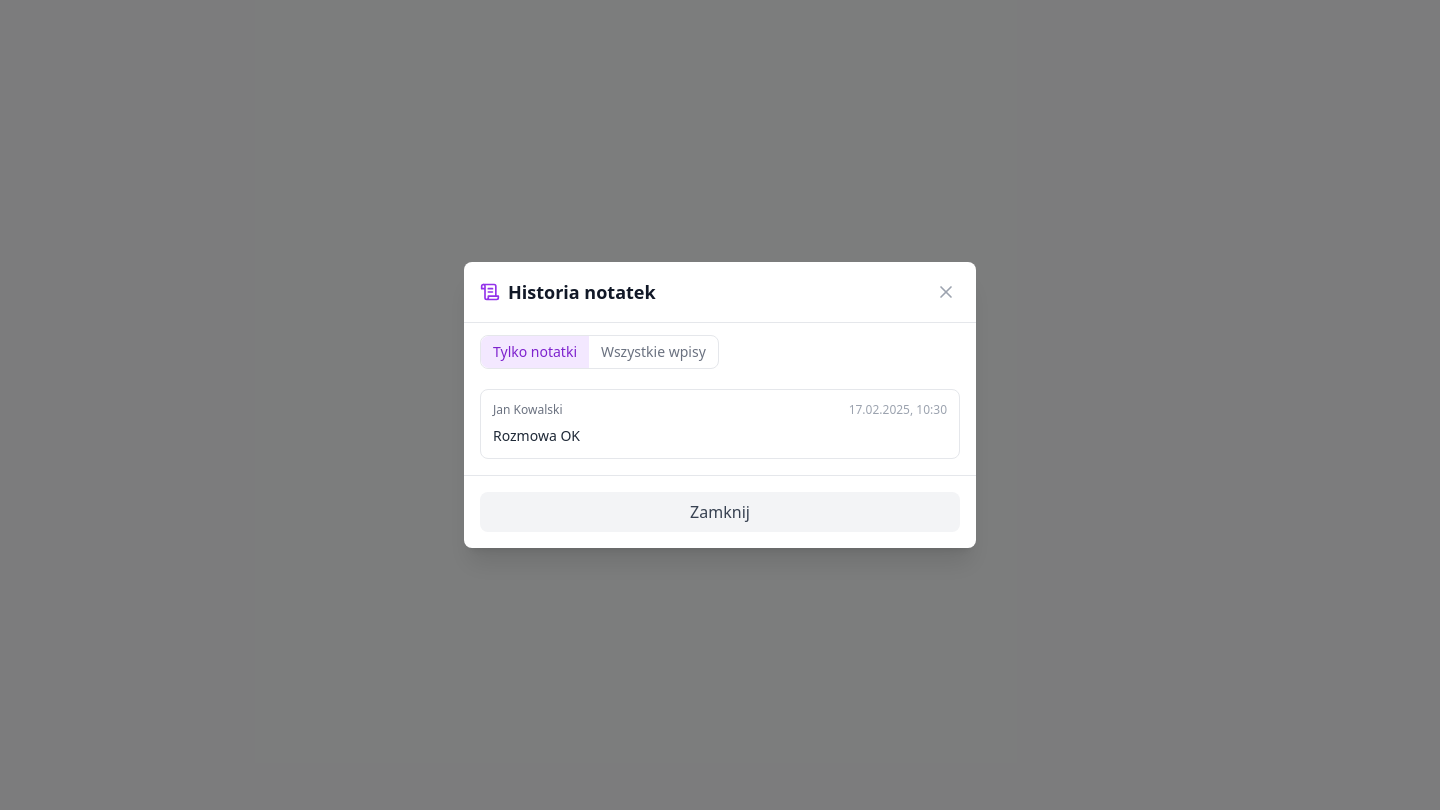
Test: LogsDialog › Filter toggle › should switch back to notes only
# Switch to all
Click the button "Wszystkie wpisy": x=653, y=352 589,336 -> 718,368
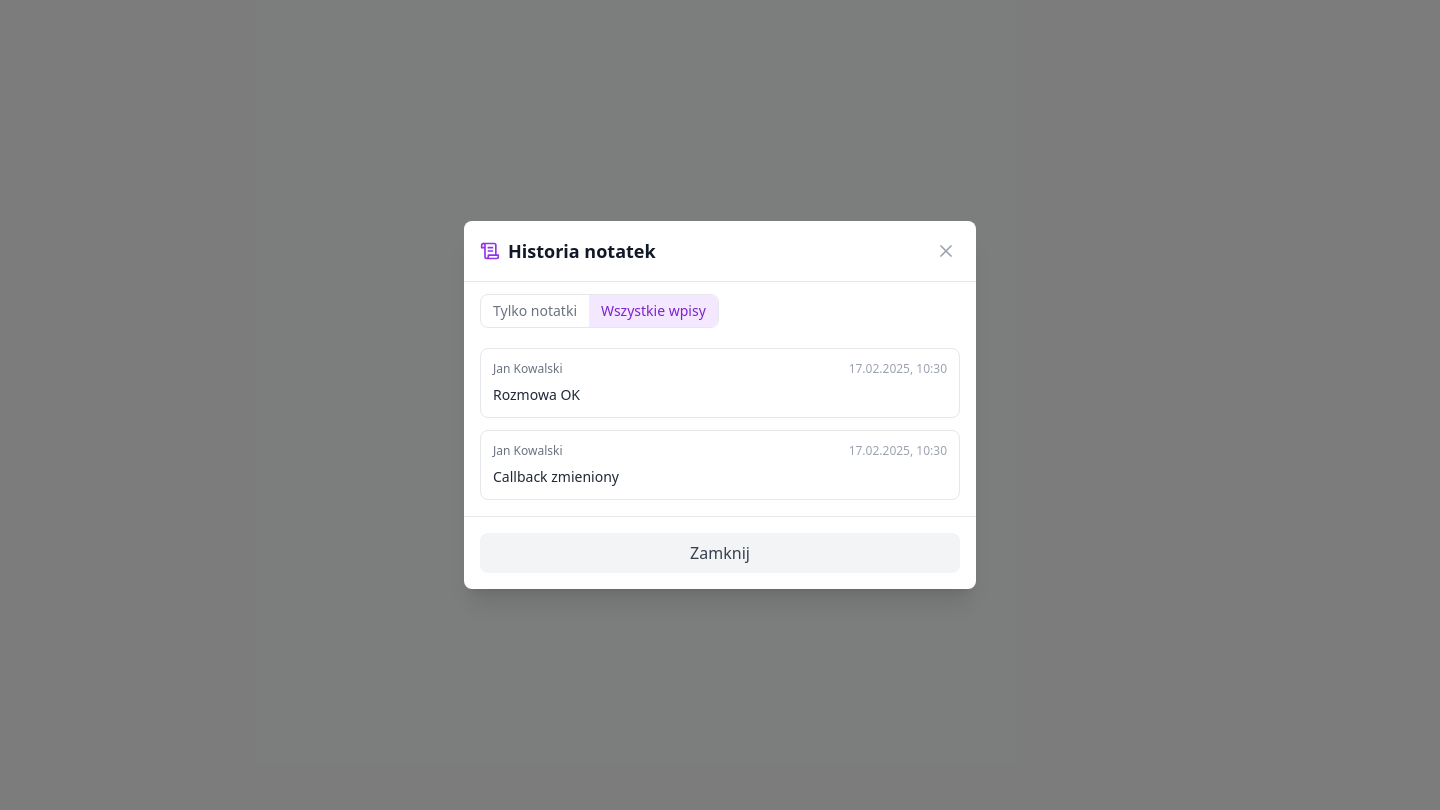
Expected: the text "Callback zmieniony" is shown, 493,467 -> 619,486
# Switch back to notes only
Click the button "Tylko notatki": x=535, y=311 481,295 -> 589,327
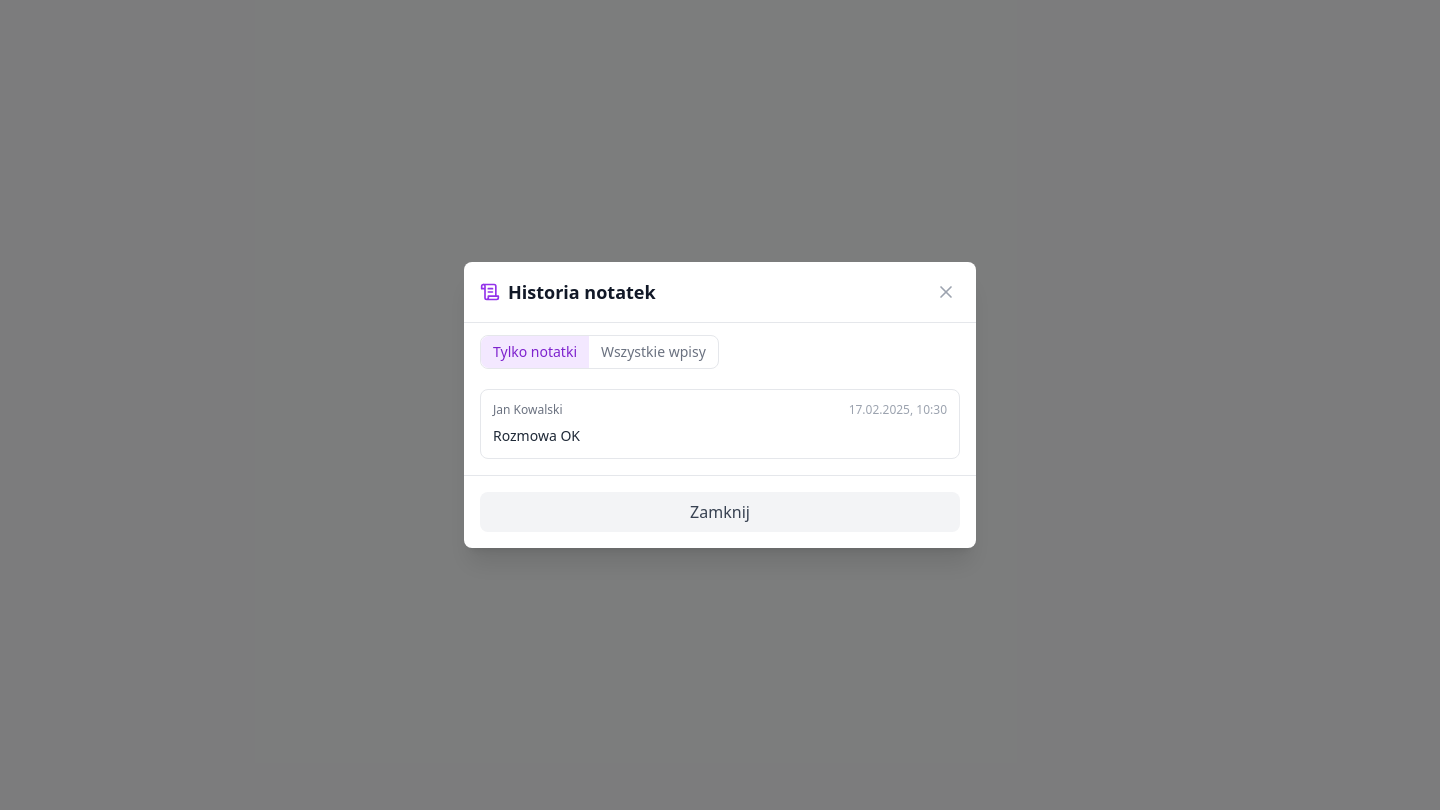
Expected: the text "Rozmowa OK" is shown, 493,426 -> 580,445
Expected: the text "Callback zmieniony" is gone
